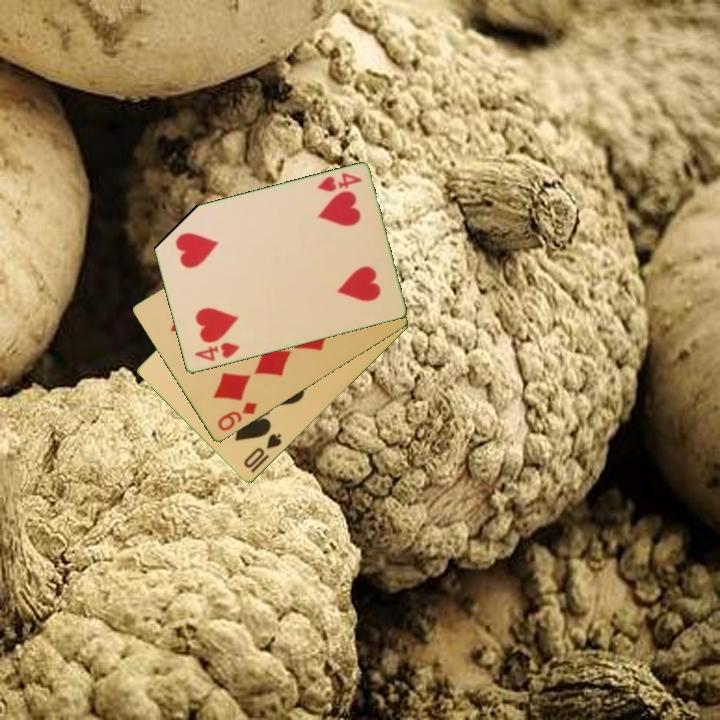10s: (240, 430, 285, 472)
4h: (313, 169, 365, 195), (191, 339, 242, 365)
9d: (214, 399, 261, 434)
